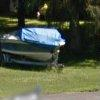Boat: (1, 22, 69, 78)
